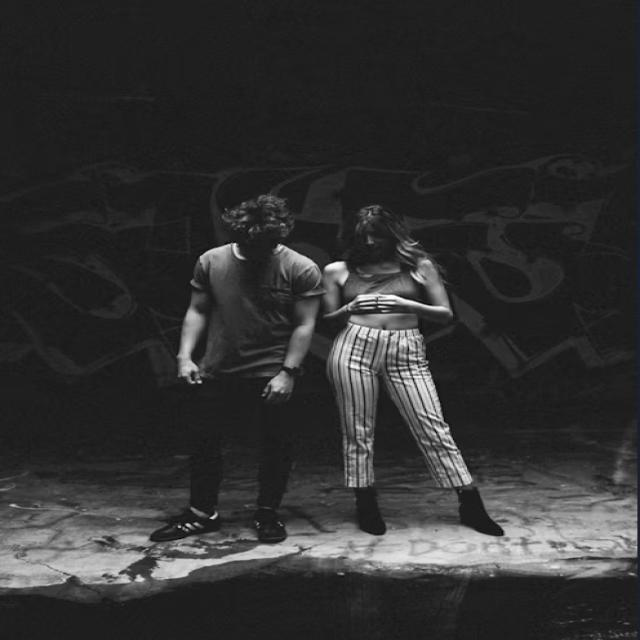Edited images: (132, 185, 519, 565)
